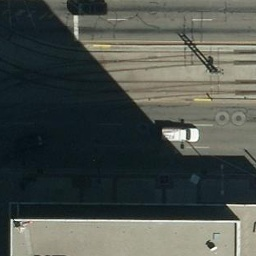car: (159, 123, 200, 146), (70, 1, 104, 22)
